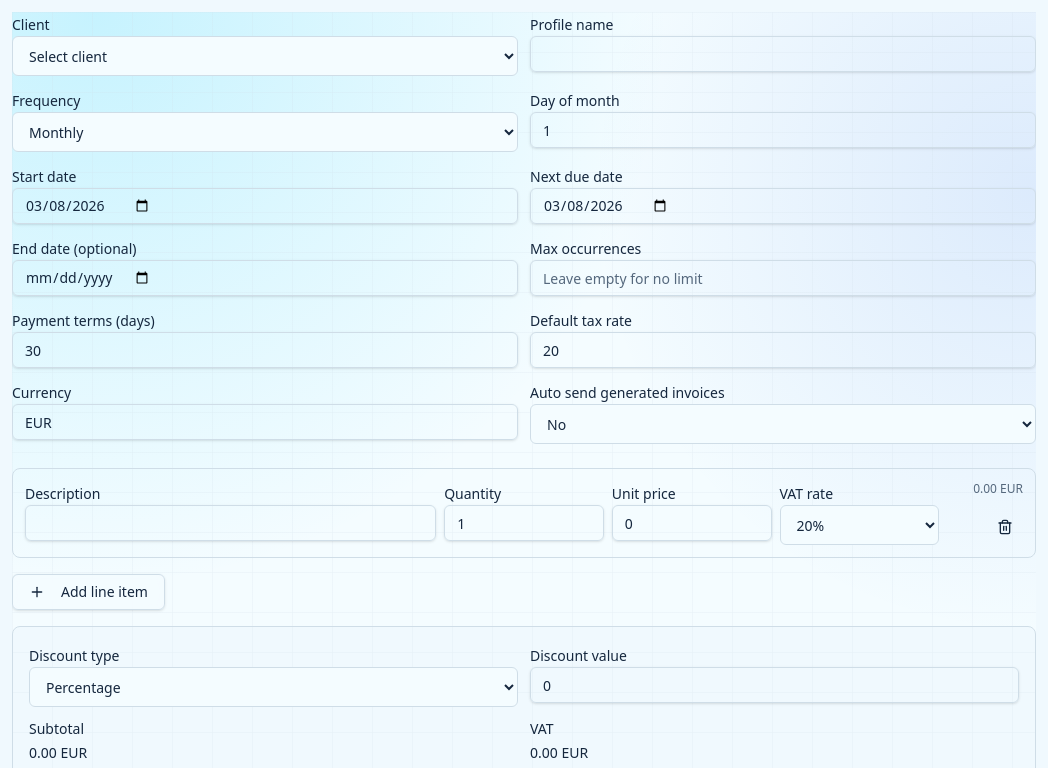
Scenario: RecurringInvoiceForm › hides day-of-month field for weekly frequency
The width and height of the screenshot is (1048, 768).
Select "Weekly" in the dropdown labelled "Frequency". click: (265, 132)
box: [12, 112, 518, 152]
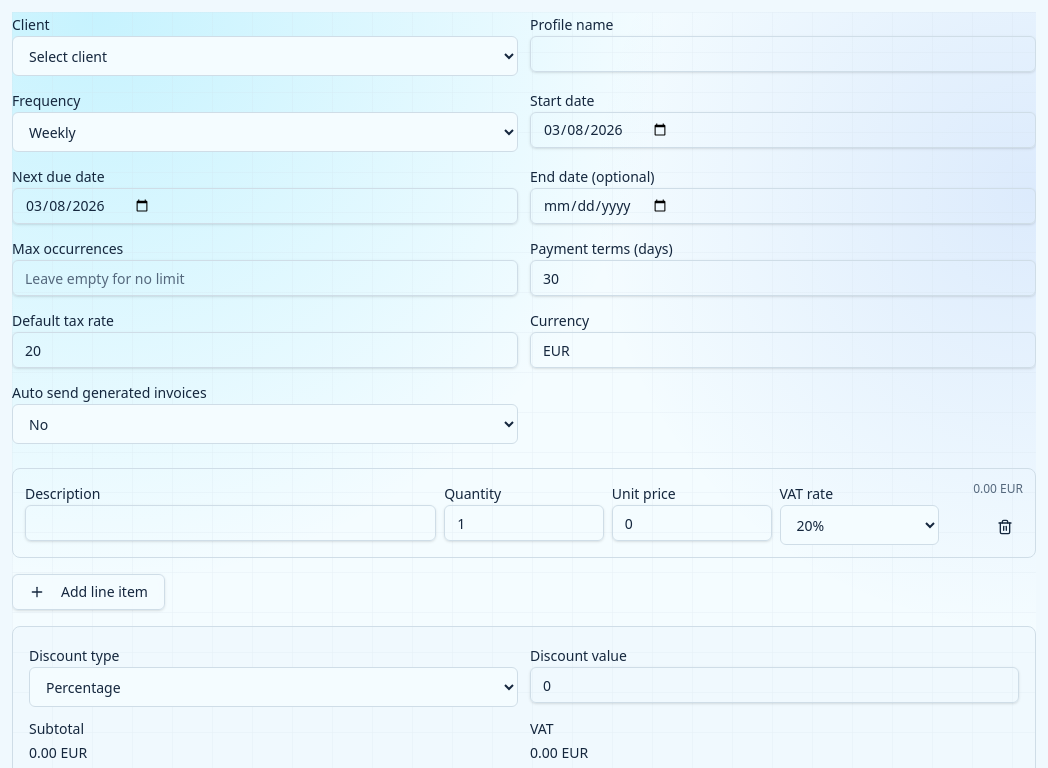
expect the label labelled "Day of month" is gone: met
